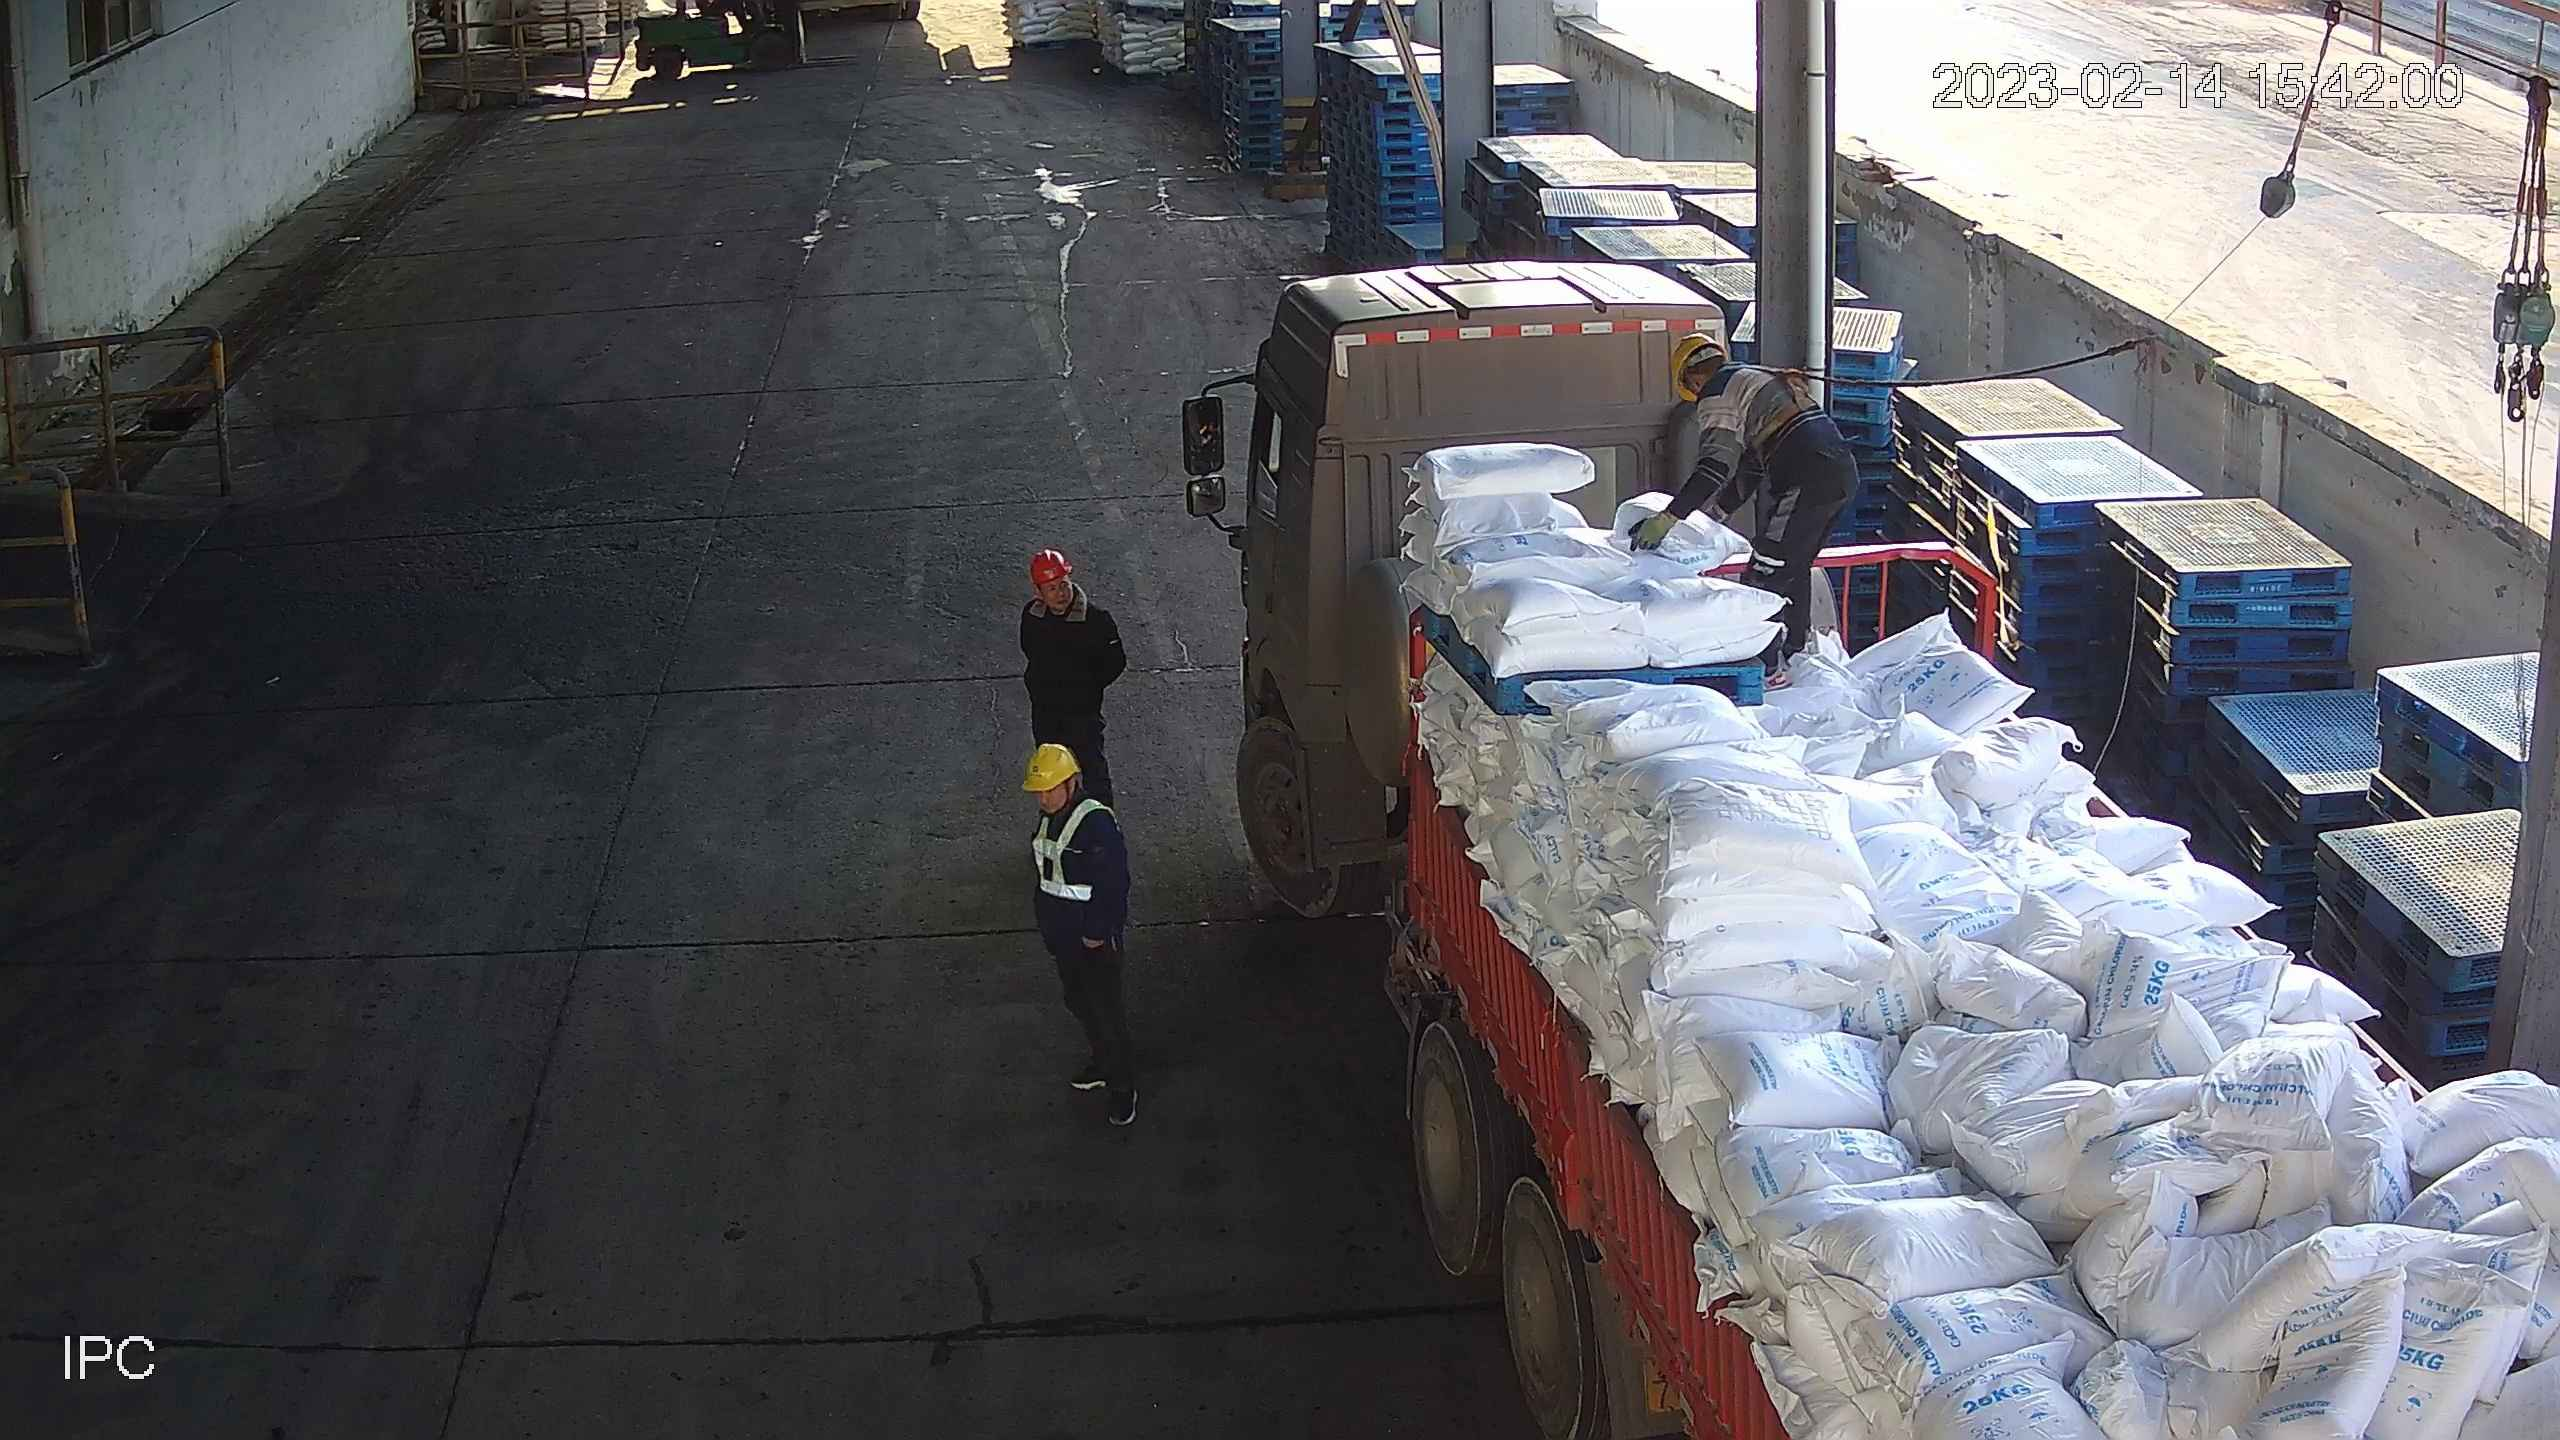belt: (1745, 362, 1822, 449)
head: (1020, 742, 1129, 882), (1666, 334, 1785, 454), (1021, 549, 1118, 644)
helmet: (1670, 335, 1726, 403), (1021, 743, 1081, 793), (1030, 549, 1072, 583)
people: (1627, 334, 1859, 692), (1020, 741, 1140, 1127), (1019, 549, 1127, 814)
truck: (1173, 257, 2560, 1432)
